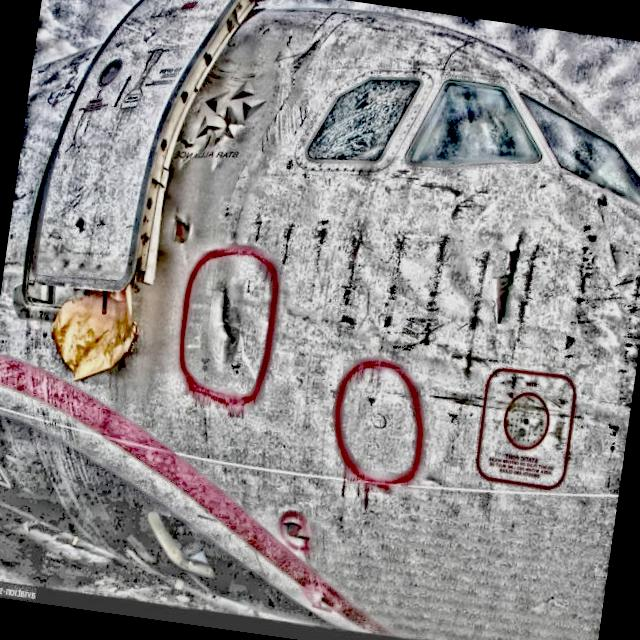crack: (485, 227, 528, 328), (165, 206, 196, 249)
dent: (199, 274, 254, 378)
